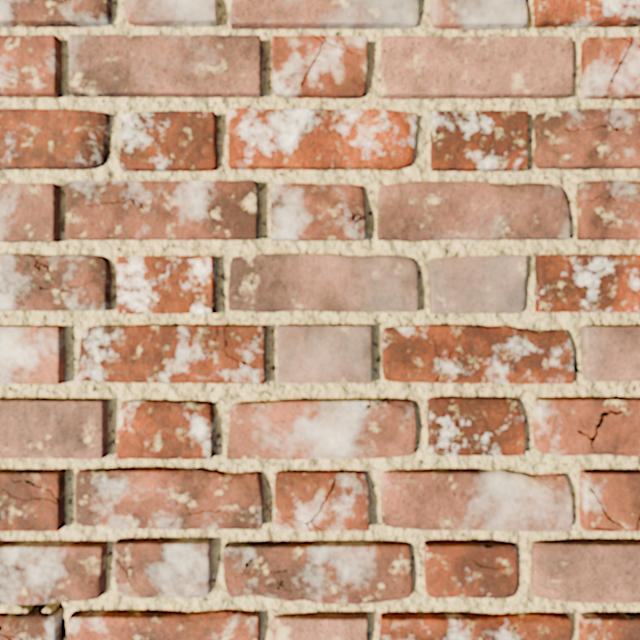brick: (69, 35, 261, 97), (381, 36, 572, 98), (224, 541, 411, 603), (229, 108, 416, 169), (381, 470, 571, 530), (378, 181, 569, 240), (76, 468, 262, 528), (227, 399, 415, 458), (66, 181, 257, 239), (77, 325, 265, 383), (382, 326, 573, 383), (229, 254, 417, 311), (531, 540, 639, 602), (0, 109, 109, 169), (0, 542, 106, 602), (0, 399, 107, 458), (534, 108, 639, 168), (0, 254, 111, 309), (534, 398, 639, 455), (535, 255, 639, 311), (273, 36, 366, 98), (120, 111, 217, 170), (431, 111, 527, 170), (275, 470, 368, 530), (117, 400, 213, 458), (428, 397, 524, 455), (114, 539, 210, 597), (69, 610, 259, 639), (118, 256, 214, 313), (428, 256, 525, 312), (230, 0, 418, 28), (277, 326, 371, 382), (271, 184, 365, 240), (425, 541, 517, 597), (380, 612, 570, 639), (0, 470, 64, 530), (0, 35, 60, 97), (577, 180, 639, 239), (0, 327, 64, 383), (581, 37, 639, 98), (580, 471, 639, 530), (0, 183, 59, 241), (580, 326, 639, 380), (0, 0, 111, 26), (431, 0, 526, 29), (534, 0, 639, 26), (273, 613, 366, 639), (125, 0, 217, 26), (579, 613, 639, 639), (0, 613, 59, 639), (634, 37, 639, 44)
crack: (300, 35, 354, 88), (286, 477, 336, 531), (0, 601, 66, 639), (589, 486, 628, 531), (212, 325, 248, 370), (610, 36, 639, 83), (431, 333, 455, 382), (333, 201, 366, 230), (113, 558, 140, 592), (363, 399, 392, 411), (0, 625, 22, 639), (0, 71, 25, 83), (55, 0, 71, 12), (228, 156, 250, 163), (509, 626, 517, 639), (634, 513, 639, 531), (411, 423, 414, 434)
